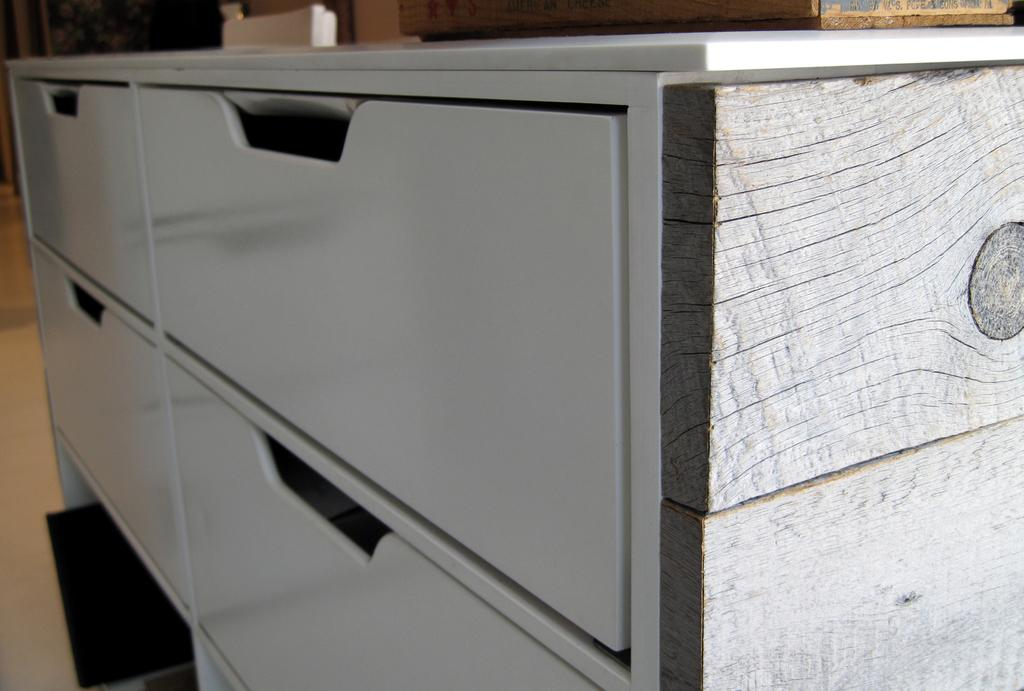cabinet_door: (131, 100, 635, 495), (184, 423, 556, 691), (34, 293, 180, 522), (24, 91, 146, 266)
handle: (230, 431, 398, 572), (217, 85, 371, 168), (52, 266, 115, 326), (35, 84, 91, 124)
